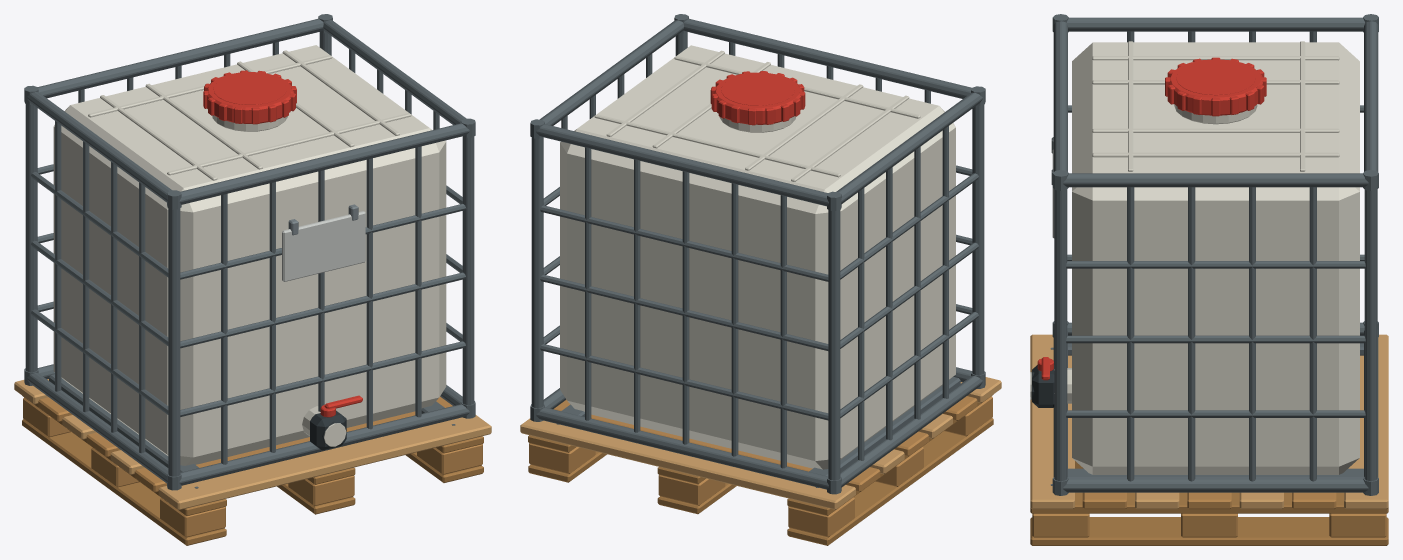
The model's file is ibc-tote.glb.
The picture shows the model from 3 angles, left to right: view 1: azimuth 30°, elevation 25°; view 2: azimuth 150°, elevation 25°; view 3: azimuth 270°, elevation 25°; orthographic projection. The views are drawn at different scales.
Parts seen in each view (by area): view 1: ibc-tote__material_04, ibc-tote__material_00, ibc-tote__material_08, ibc-tote__material_09, ibc-tote__material_07, ibc-tote__material_02, ibc-tote__material_01, ibc-tote__material_05, ibc-tote__material_03; view 2: ibc-tote__material_04, ibc-tote__material_00, ibc-tote__material_09, ibc-tote__material_08, ibc-tote__material_07, ibc-tote__material_02, ibc-tote__material_01; view 3: ibc-tote__material_04, ibc-tote__material_00, ibc-tote__material_07, ibc-tote__material_08, ibc-tote__material_02, ibc-tote__material_09, ibc-tote__material_01, ibc-tote__material_03.
Boxes of the visible parts, x1,y1,x2,y2 form: ibc-tote__material_04: (53,45,446,465); ibc-tote__material_00: (24,14,475,490); ibc-tote__material_08: (14,379,491,509); ibc-tote__material_09: (23,396,482,537); ibc-tote__material_07: (22,395,483,545); ibc-tote__material_02: (88,50,411,435); ibc-tote__material_01: (203,70,362,417); ibc-tote__material_05: (282,211,365,281); ibc-tote__material_03: (310,410,346,450); ibc-tote__material_04: (560,45,955,469); ibc-tote__material_00: (530,14,985,494); ibc-tote__material_09: (529,396,992,537); ibc-tote__material_08: (520,377,1001,509); ibc-tote__material_07: (528,394,993,545); ibc-tote__material_02: (594,50,920,181); ibc-tote__material_01: (710,71,805,125); ibc-tote__material_04: (1030,42,1359,474); ibc-tote__material_00: (1050,14,1378,495); ibc-tote__material_07: (1030,492,1388,545); ibc-tote__material_08: (1030,334,1388,509); ibc-tote__material_02: (1054,41,1339,403); ibc-tote__material_09: (1032,461,1386,537); ibc-tote__material_01: (1037,57,1266,380); ibc-tote__material_03: (1031,365,1054,407).
Bounding box in the file's own units: 1.1 × 1.2 × 1.
